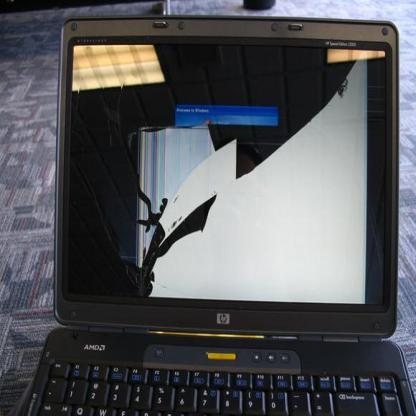crack: (68, 43, 375, 308)
lines: (141, 132, 167, 196)
